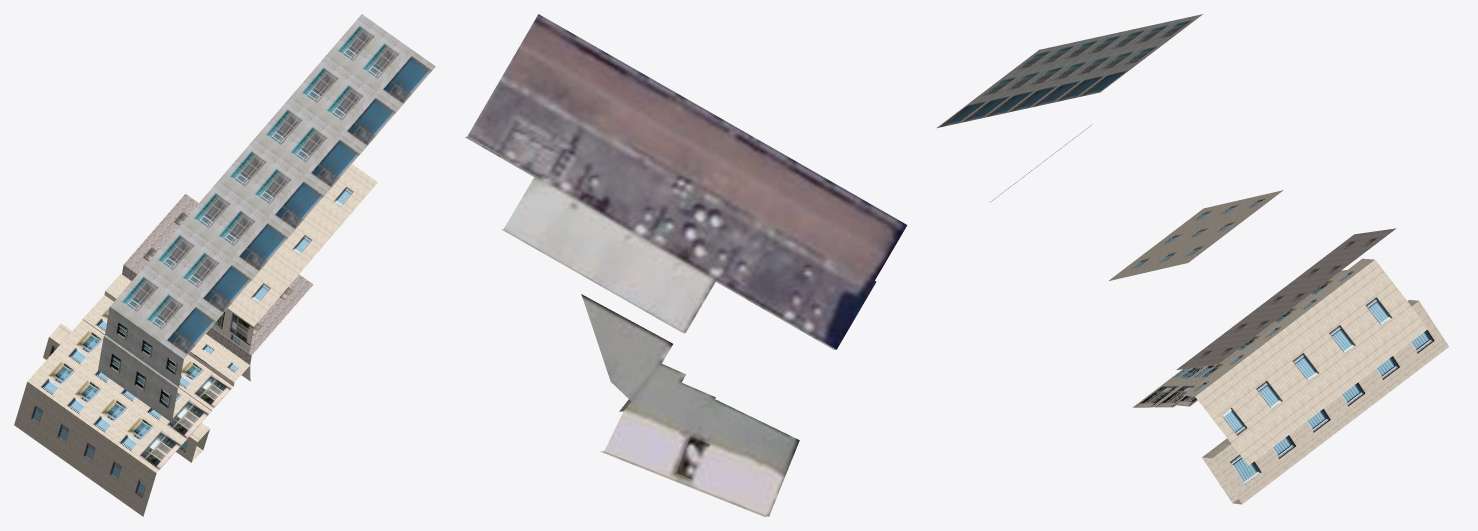
3 renders of one model, left to right at view 1: azimuth 30°, elevation 25°; view 2: azimuth 150°, elevation 25°; view 3: azimuth 270°, elevation 25°, orthographic. The views are drawn at different scales.
Bounding box in the file's own units: 46.95 × 53.14 × 39.43.
Materials: 17 (17 with a texture image).
